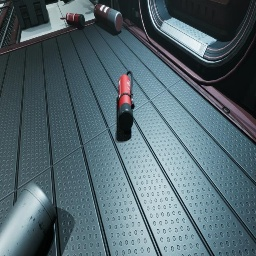0: (60, 0, 72, 3)
FireExtinguisher ]: (118, 70, 135, 131), (60, 13, 85, 27)
NitrogenTank ,: (0, 182, 56, 256), (94, 4, 123, 32)
